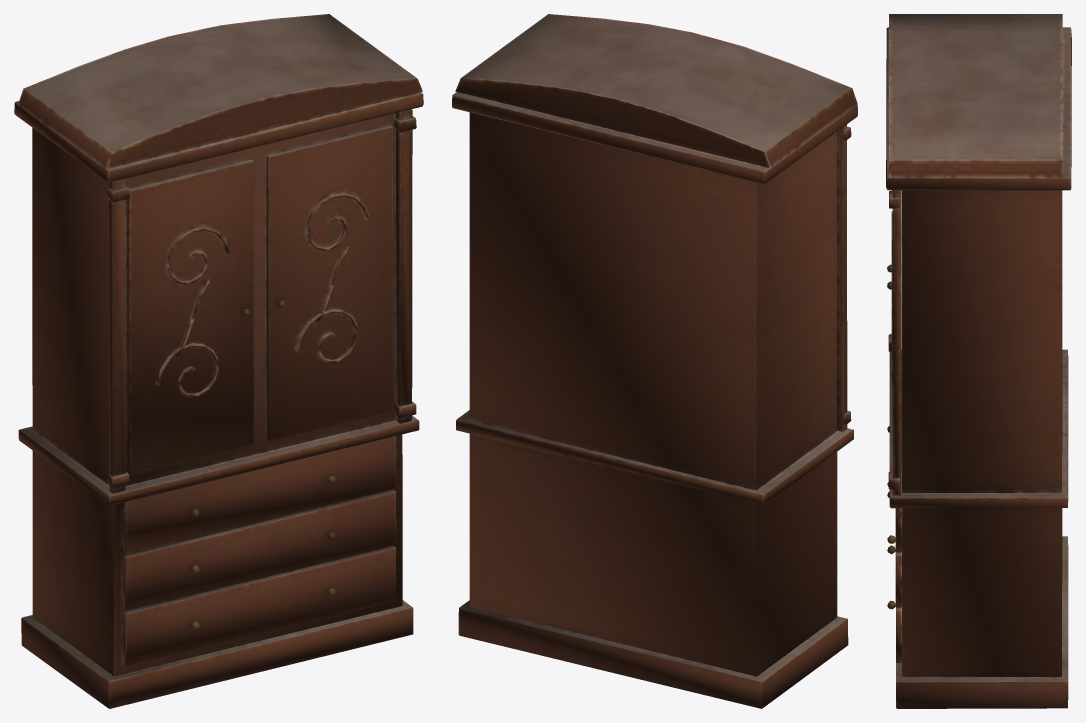
The model's file is wardrobe-low.glb.
3 views of the same model, side by side, from view 1: azimuth 30°, elevation 25°; view 2: azimuth 150°, elevation 25°; view 3: azimuth 270°, elevation 25° (orthographic).
Parts seen in each view (by area): view 1: wardrobe-low; view 2: wardrobe-low; view 3: wardrobe-low.
Part boxes in pixels (<box>): wardrobe-low: <box>14,14,423,708</box>; wardrobe-low: <box>452,14,857,708</box>; wardrobe-low: <box>886,14,1071,708</box>.
Size of the model in its own units: 1.16 by 2.01 by 0.6.
1 material, 1 textured.
